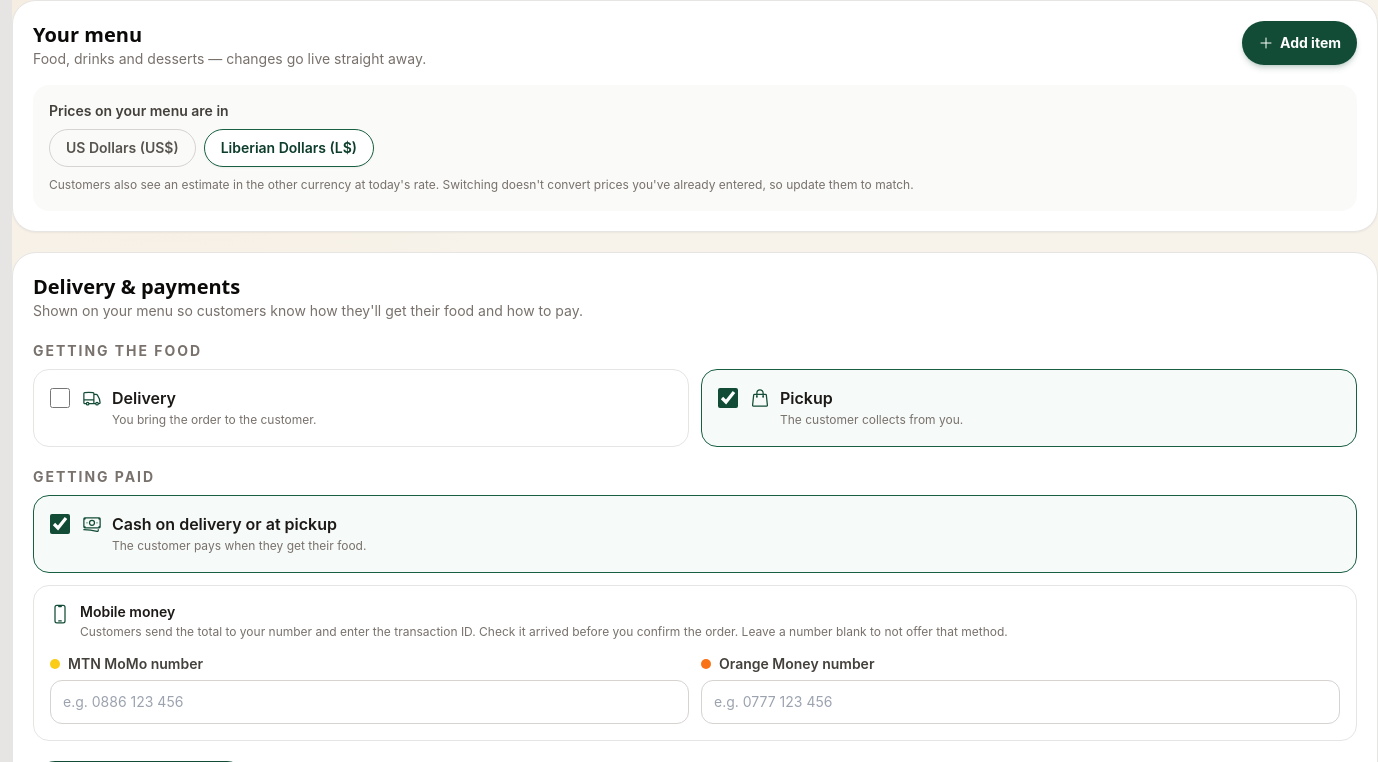
it: MenuItemsManager › shows prices in the saved menu currency and switches currency
Expected: the radio button labelled "Liberian Dollars (L$)" is checked, [204,129,374,167]
Click the radio button labelled "US Dollars (US$)".
click(122, 148)  # box [49,129,196,167]
(page scrolled)
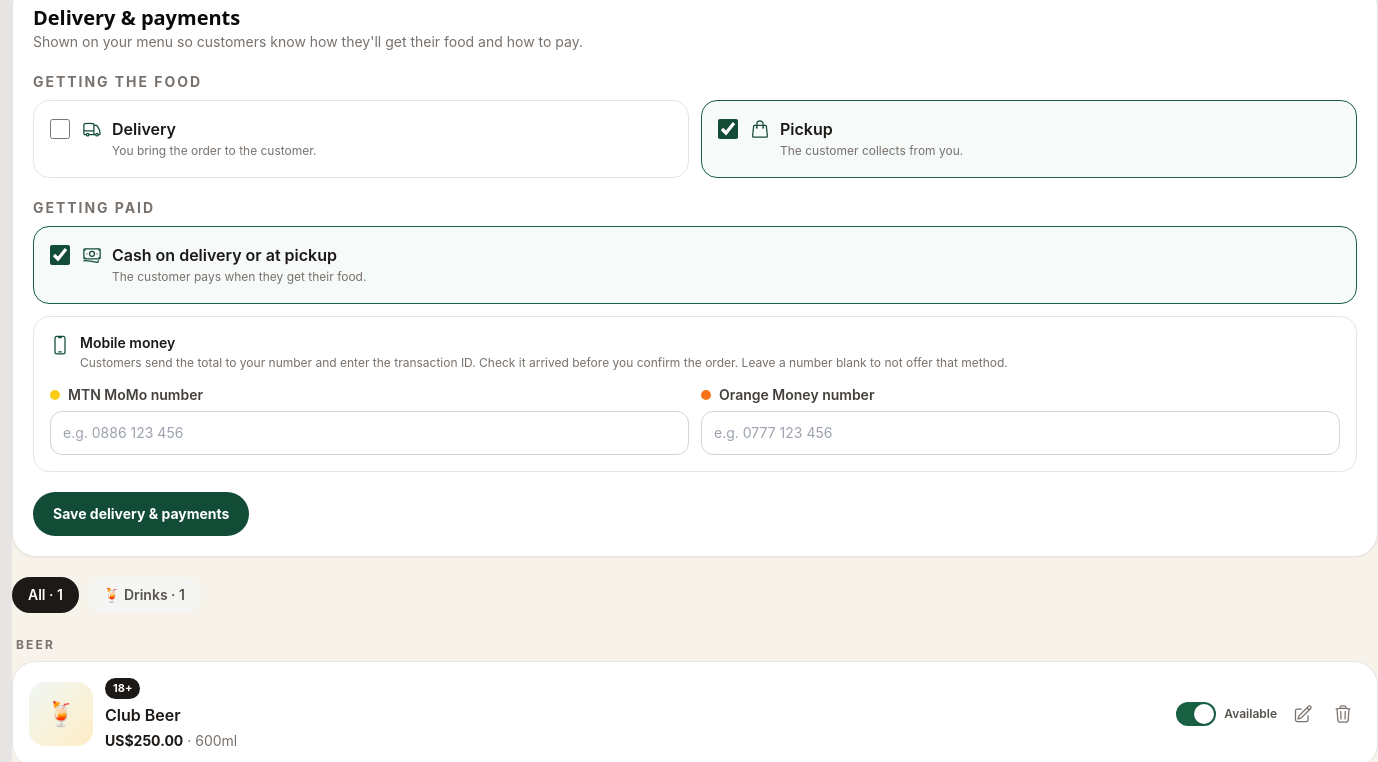
Expected: the text "US$250.00" is shown, [105,732,183,748]
